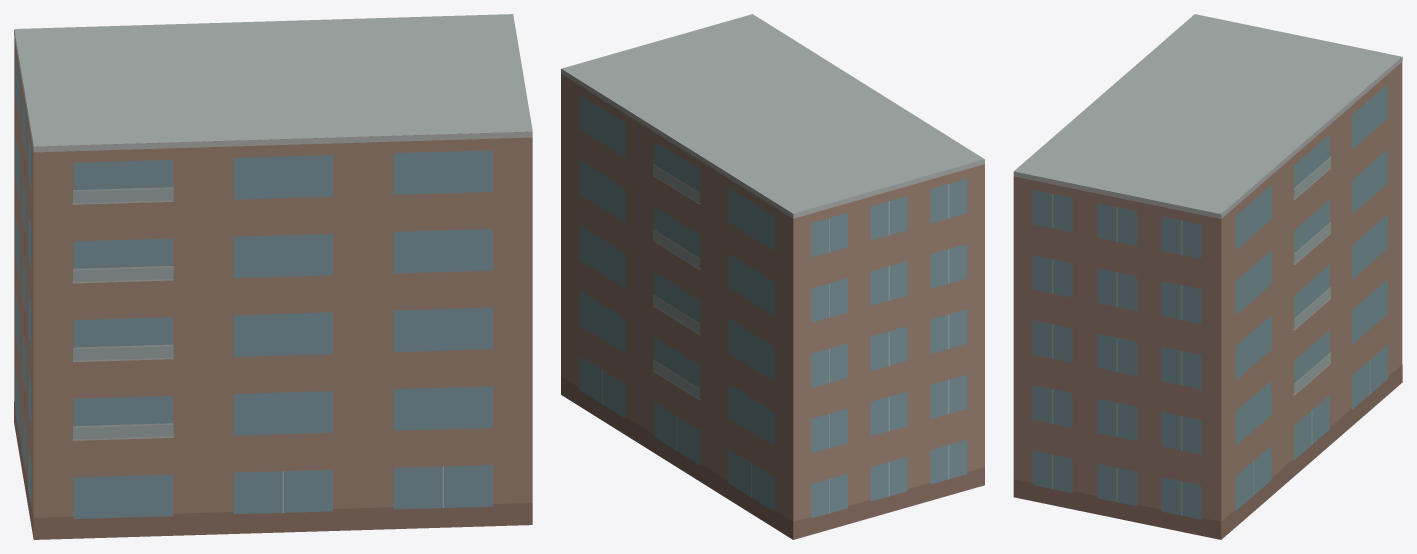
Rendered from survey-upis-32968771.glb.
The picture shows the model from 3 angles, left to right: view 1: azimuth 30°, elevation 25°; view 2: azimuth 150°, elevation 25°; view 3: azimuth 270°, elevation 25°; orthographic projection. The views are drawn at different scales.
Parts seen in each view (by area): view 1: survey-upis-32968771.tmp; view 2: survey-upis-32968771.tmp; view 3: survey-upis-32968771.tmp.
Part boxes in pixels (x1,y1,x2,y2): survey-upis-32968771.tmp: (14,14,532,539); survey-upis-32968771.tmp: (561,14,984,539); survey-upis-32968771.tmp: (1013,14,1402,539).
Bounding box in the file's own units: 21.36 × 16.2 × 17.54.
